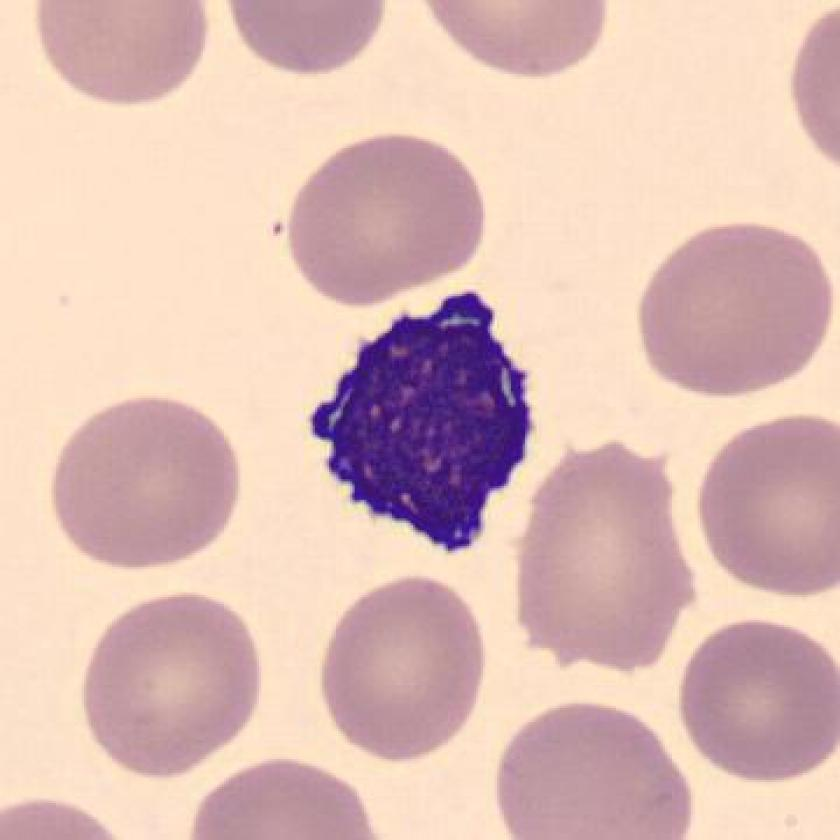lymphocyte: (297, 283, 561, 561)
